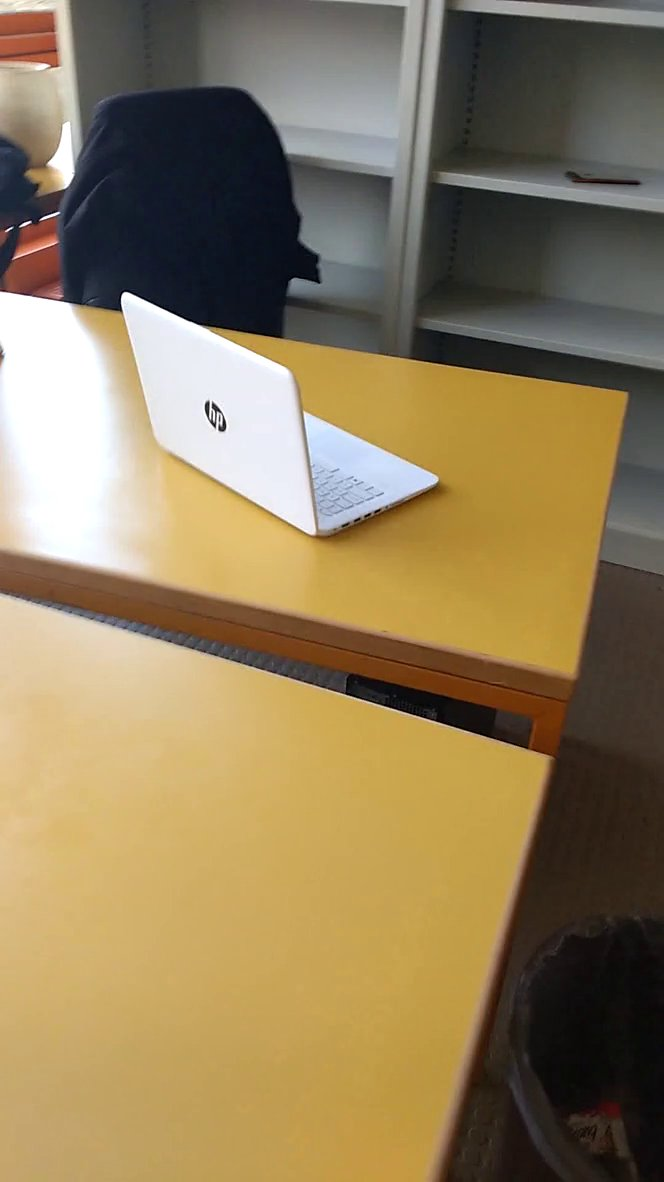chair: (49, 84, 323, 346)
laptop: (116, 274, 449, 547)
